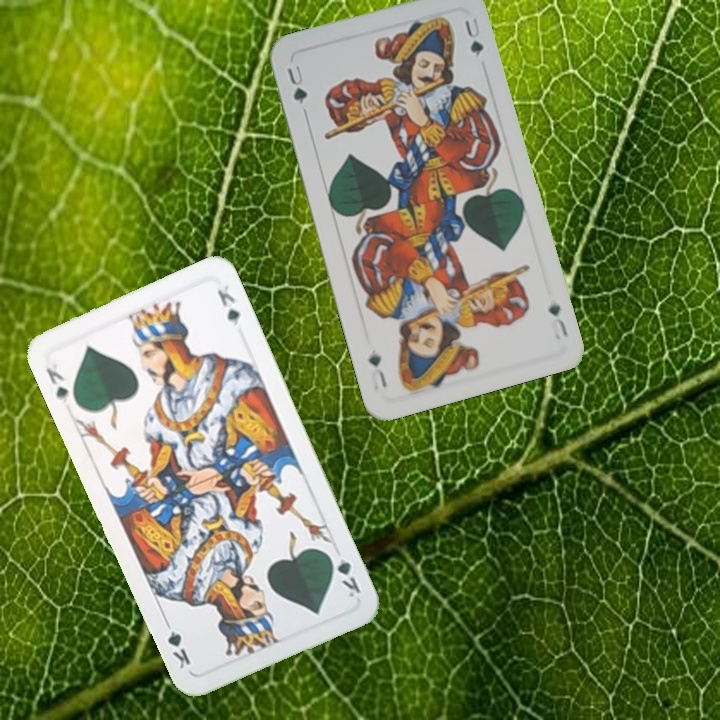GK: (324, 548, 363, 600), (41, 359, 71, 406)
GU: (283, 61, 310, 107), (544, 300, 571, 343)
